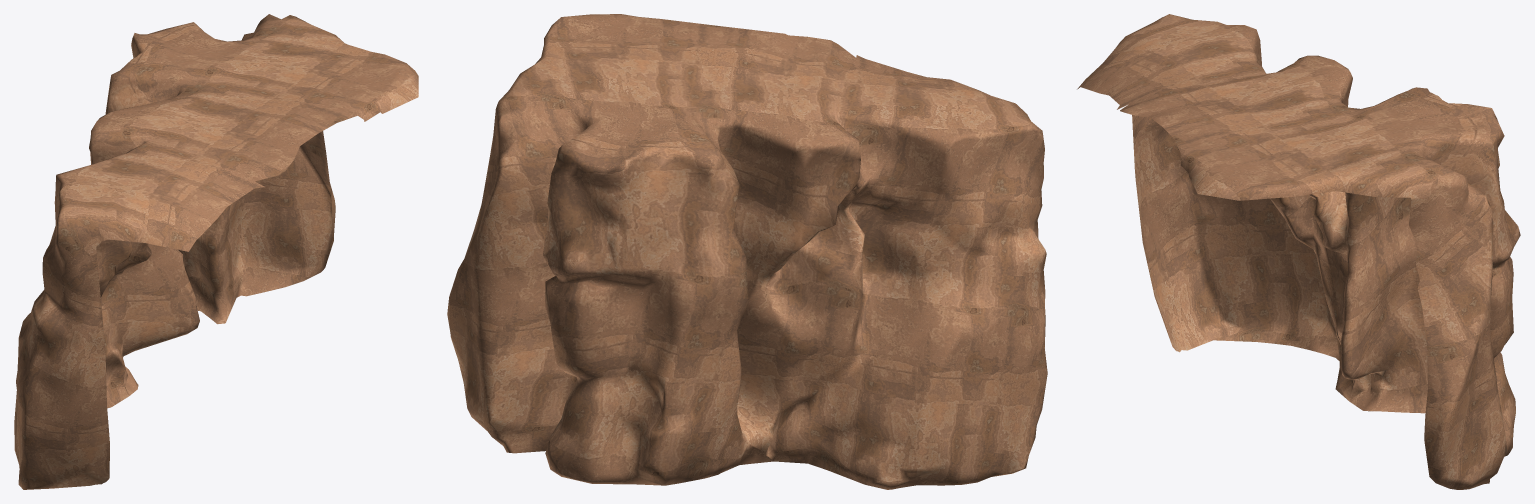
The model's file is Ob_RockCliff22.fbx.
The picture shows the model from 3 angles, left to right: view 1: azimuth 30°, elevation 25°; view 2: azimuth 150°, elevation 25°; view 3: azimuth 270°, elevation 25°; orthographic projection. The views are drawn at different scales.
Visible parts, largest first — view 1: Ob_RockCliff22; view 2: Ob_RockCliff22; view 3: Ob_RockCliff22.
Part boxes in pixels (box(x1,y1,x2,y2)): Ob_RockCliff22: box(14, 14, 418, 489); Ob_RockCliff22: box(447, 14, 1047, 489); Ob_RockCliff22: box(1077, 14, 1520, 489).
Size of the model in its own units: 36573 by 26647 by 30090.
